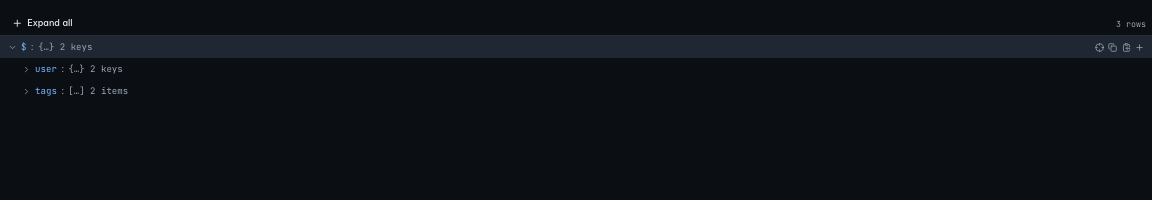
Test: TreeView › expands everything at once
Click the button "Expand all".
click(42, 24)  # box left=6, top=13, right=79, bottom=34
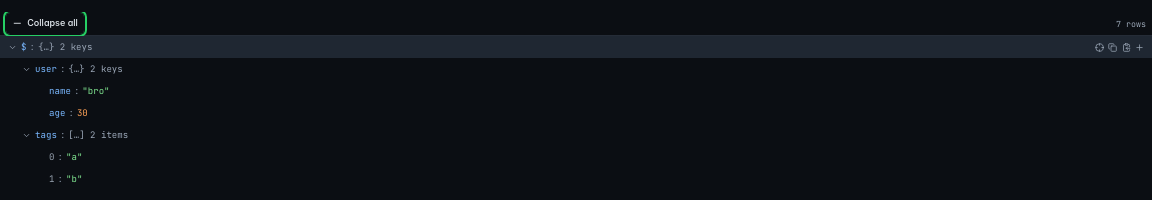
Result: the text "name" is shown at left=49, top=85, right=71, bottom=98
Result: the text "age" is shown at left=49, top=107, right=65, bottom=120
